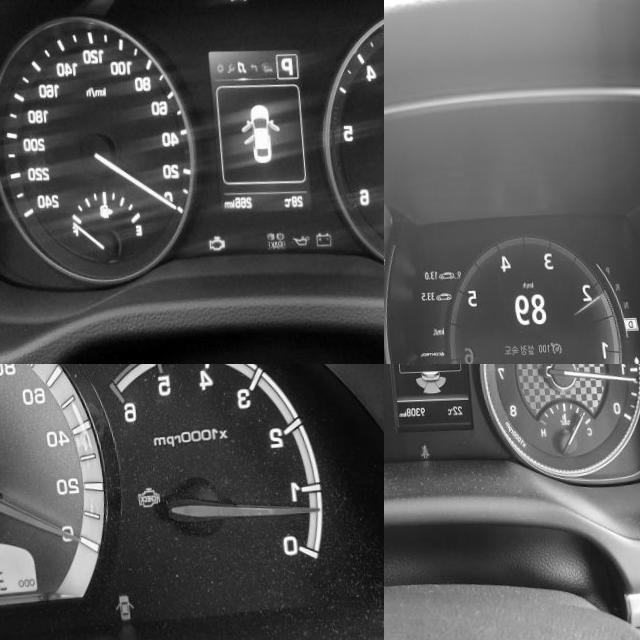Doors: (106, 596, 127, 624)
SideLamp: (225, 0, 246, 5)
